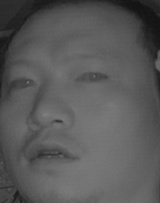eye: (76, 66, 108, 89), (8, 74, 36, 93)
mouth: (24, 133, 82, 174)
